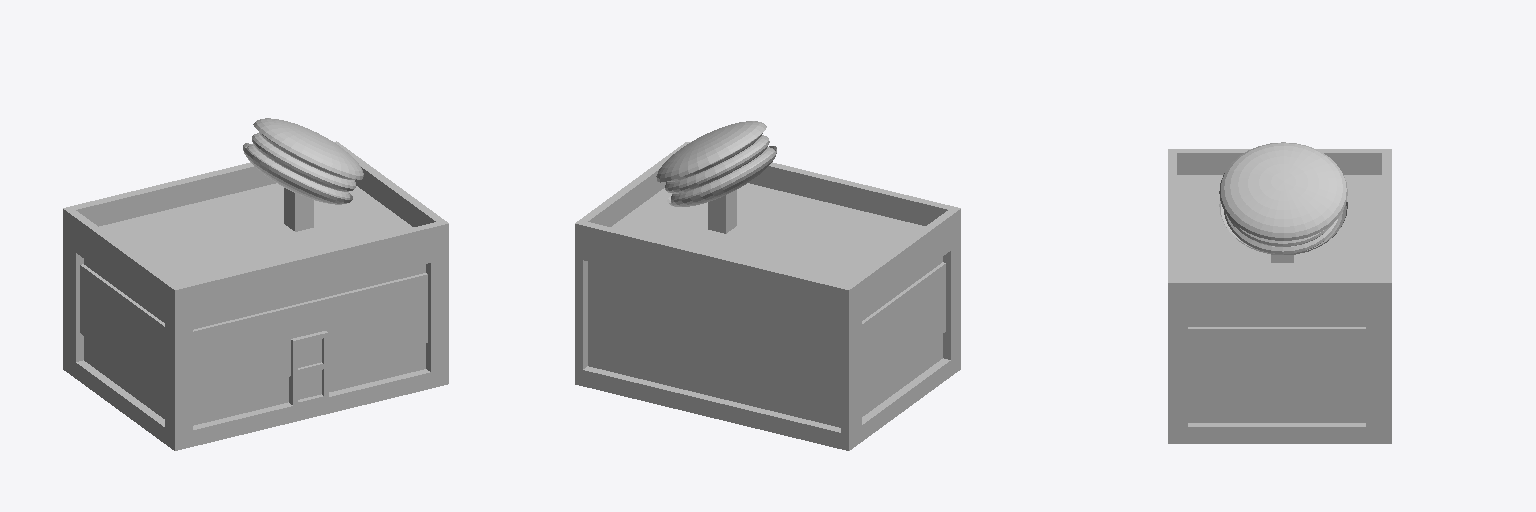
The model's file is burgers2.mtl.obj.
3 views of the same model, side by side, from view 1: azimuth 30°, elevation 25°; view 2: azimuth 150°, elevation 25°; view 3: azimuth 270°, elevation 25° (orthographic).
Bounding box in the file's own units: 6.96 × 5.85 × 4.93.